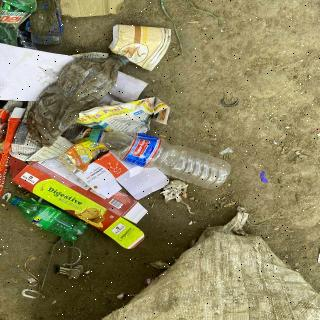Plastic-bottle: (87, 127, 234, 193), (8, 194, 91, 246), (1, 1, 42, 51)
